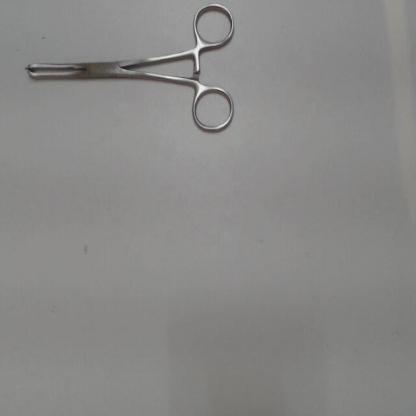Allis Tissue Forceps: (11, 3, 239, 149)
